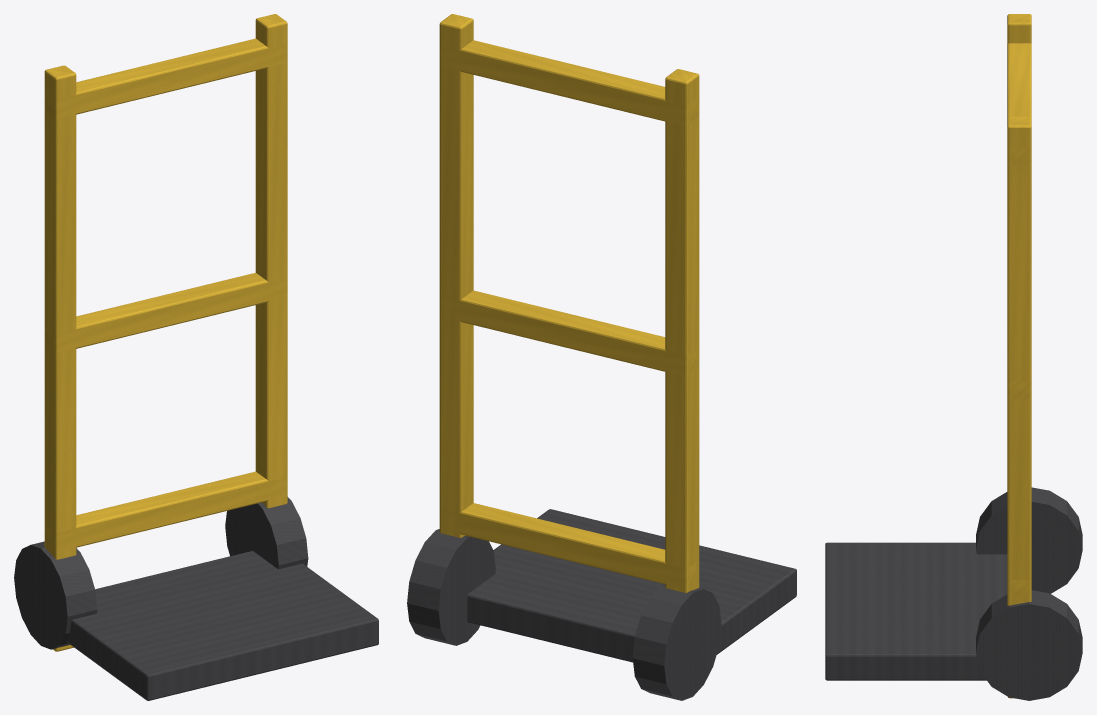
File: hand_trolley.glb
The picture shows the model from 3 angles, left to right: view 1: azimuth 30°, elevation 25°; view 2: azimuth 150°, elevation 25°; view 3: azimuth 270°, elevation 25°; orthographic projection. The views are drawn at different scales.
Visible parts, largest first — view 1: toe_plate, upright.014, upright.015, crossbar.009, crossbar.007, crossbar.008, wheel.016, wheel.017; view 2: toe_plate, upright.015, upright.014, crossbar.009, crossbar.008, wheel.016, crossbar.007, wheel.017; view 3: toe_plate, upright.015, wheel.017, wheel.016, crossbar.009, upright.014, crossbar.008, crossbar.007.
Part boxes in pixels (<box>): toe_plate: <box>66,551,378,700</box>; upright.014: <box>44,65,76,651</box>; upright.015: <box>255,14,287,508</box>; crossbar.009: <box>44,38,286,118</box>; crossbar.007: <box>44,471,287,551</box>; crossbar.008: <box>44,272,287,352</box>; wheel.016: <box>14,541,97,649</box>; wheel.017: <box>225,497,308,569</box>; toe_plate: <box>467,509,796,662</box>; upright.015: <box>439,14,473,537</box>; upright.014: <box>665,69,699,592</box>; crossbar.009: <box>439,40,699,125</box>; crossbar.008: <box>439,290,699,375</box>; wheel.016: <box>632,584,721,700</box>; crossbar.007: <box>439,503,699,588</box>; wheel.017: <box>407,529,495,645</box>; toe_plate: <box>825,542,1007,680</box>; upright.015: <box>1007,116,1031,698</box>; wheel.017: <box>976,590,1082,700</box>; wheel.016: <box>976,487,1082,593</box>; crossbar.009: <box>1007,43,1031,166</box>; upright.014: <box>1007,14,1031,43</box>; crossbar.008: <box>1007,381,1031,399</box>; crossbar.007: <box>1007,579,1031,597</box>.
Size of the model in its own units: 0.57 by 1.3 by 0.53.
Materials: 2 (2 with a texture image).
